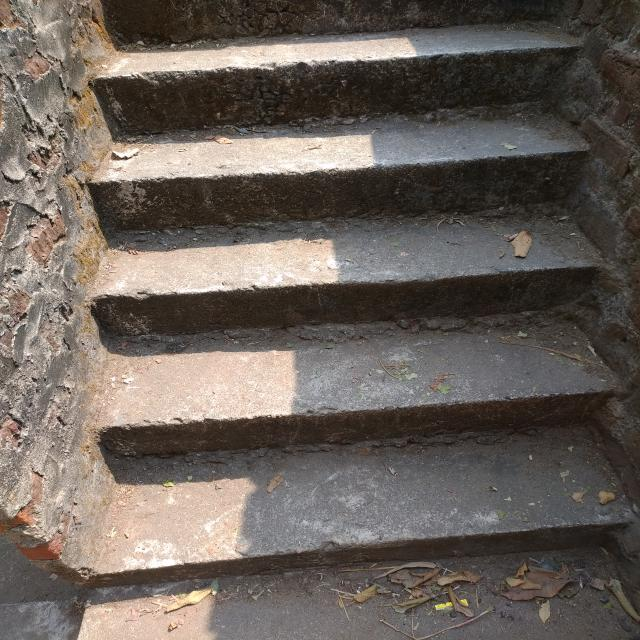Stairs: (72, 41, 586, 598)
